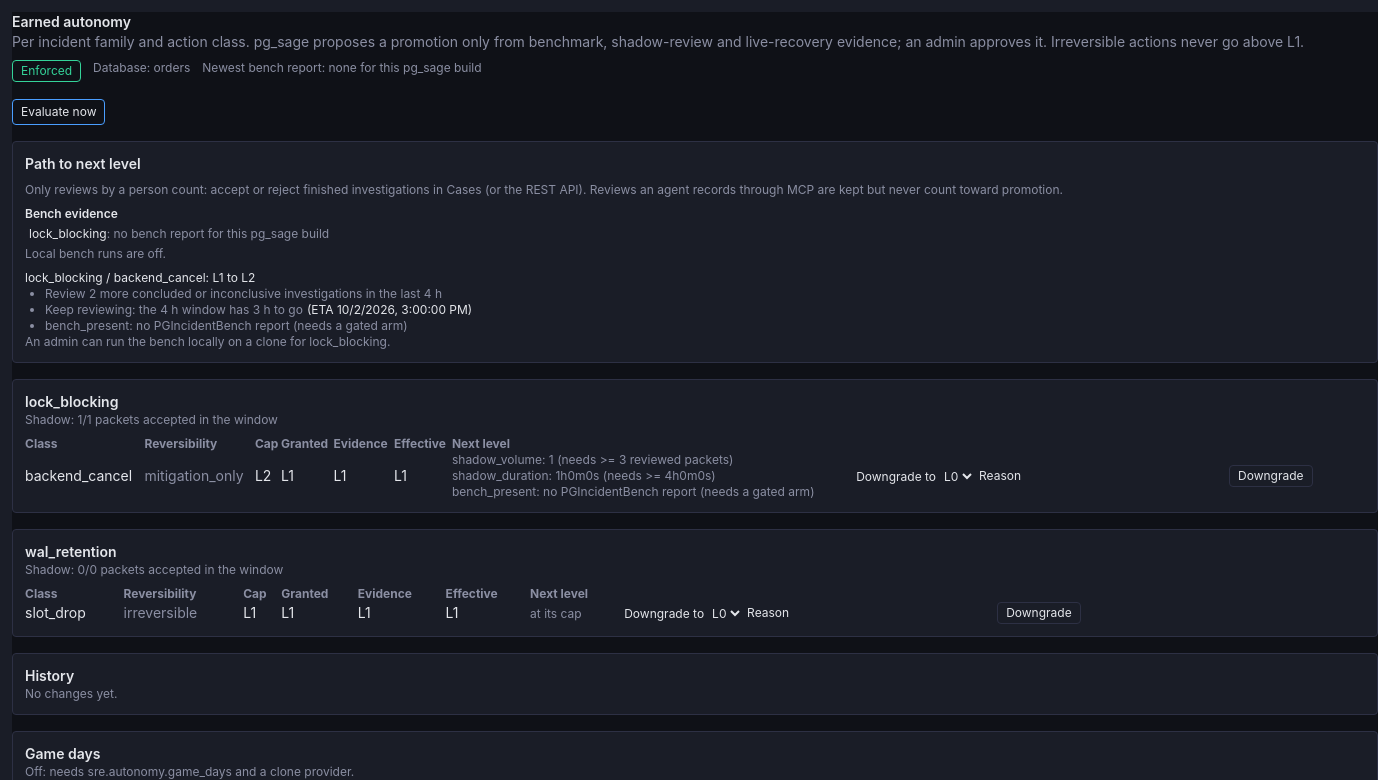
AutonomyPage promotion coach › reports created proposals
The image size is (1378, 780).
Click the button "Evaluate now" at (59, 112), box [12, 99, 106, 125]
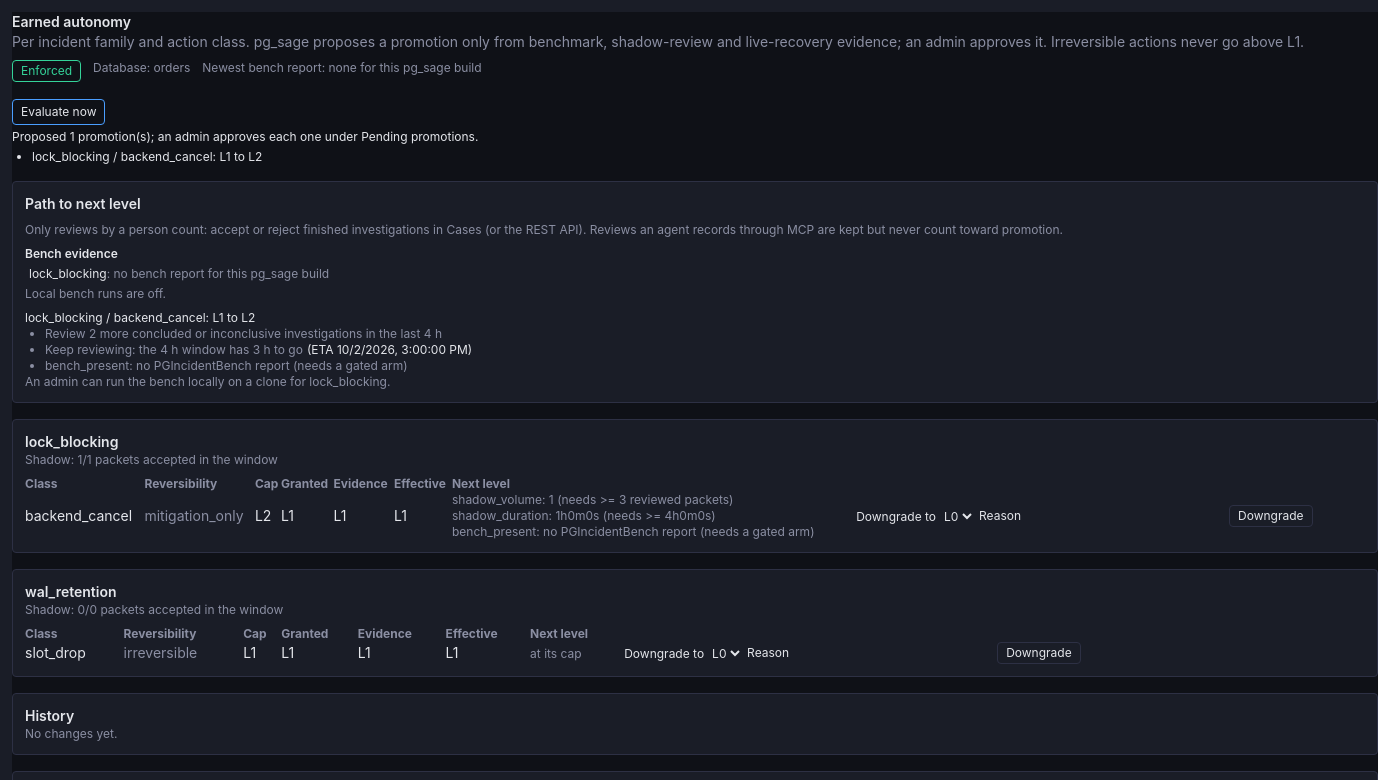
expect the element with test id "evaluate-result" shows "Proposed 1": met, box [12, 129, 478, 164]
expect the element with test id "evaluate-result" shows "lock_blocking / backend_cancel: L1 to L2": met, box [12, 129, 478, 164]
expect the element with test id "evaluate-result" shows "admin": met, box [75, 129, 478, 144]
